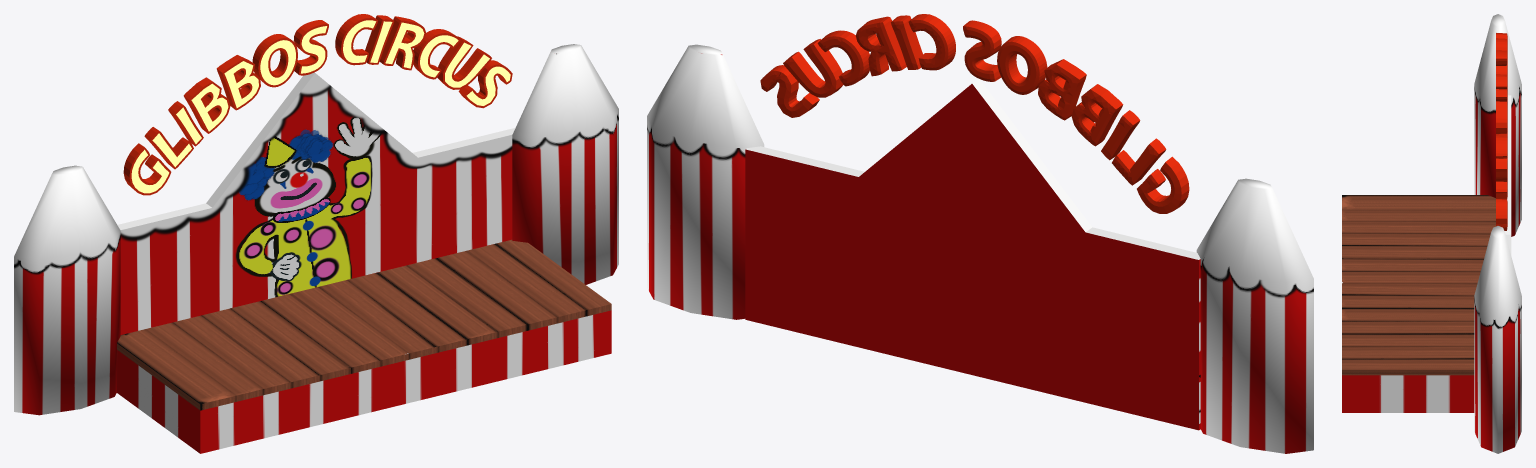
File: Stage.glb
3 renders of one model, left to right at view 1: azimuth 30°, elevation 25°; view 2: azimuth 150°, elevation 25°; view 3: azimuth 270°, elevation 25°, orthographic. The views are drawn at different scales.
Parts seen in each view (by area): view 1: Stage; view 2: Stage; view 3: Stage.
Boxes of the visible parts, box(x1,y1,x2,y2) form: Stage: box(14, 14, 618, 453); Stage: box(647, 14, 1313, 453); Stage: box(1342, 14, 1521, 453).
Bounding box in the file's own units: 25.52 × 12.64 × 7.55.
Materials: 3 (1 with a texture image).
